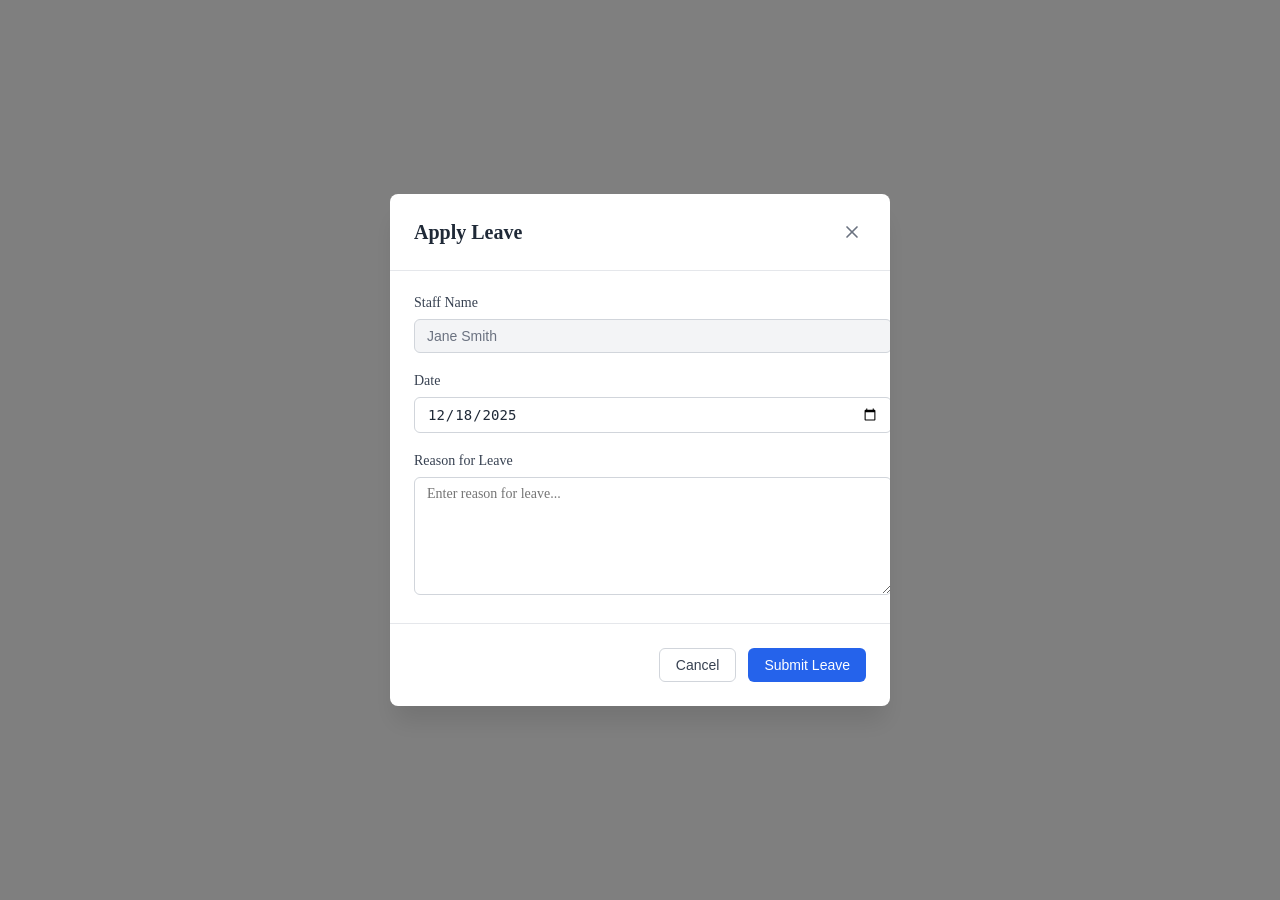
Test: ApplyLeaveModal Component › shows loading state during submission
This screenshot has width=1280, height=900.
Type "Vacation" into the text box with placeholder "Enter reason for leave...". click: (653, 536)
box: [414,477,892,595]
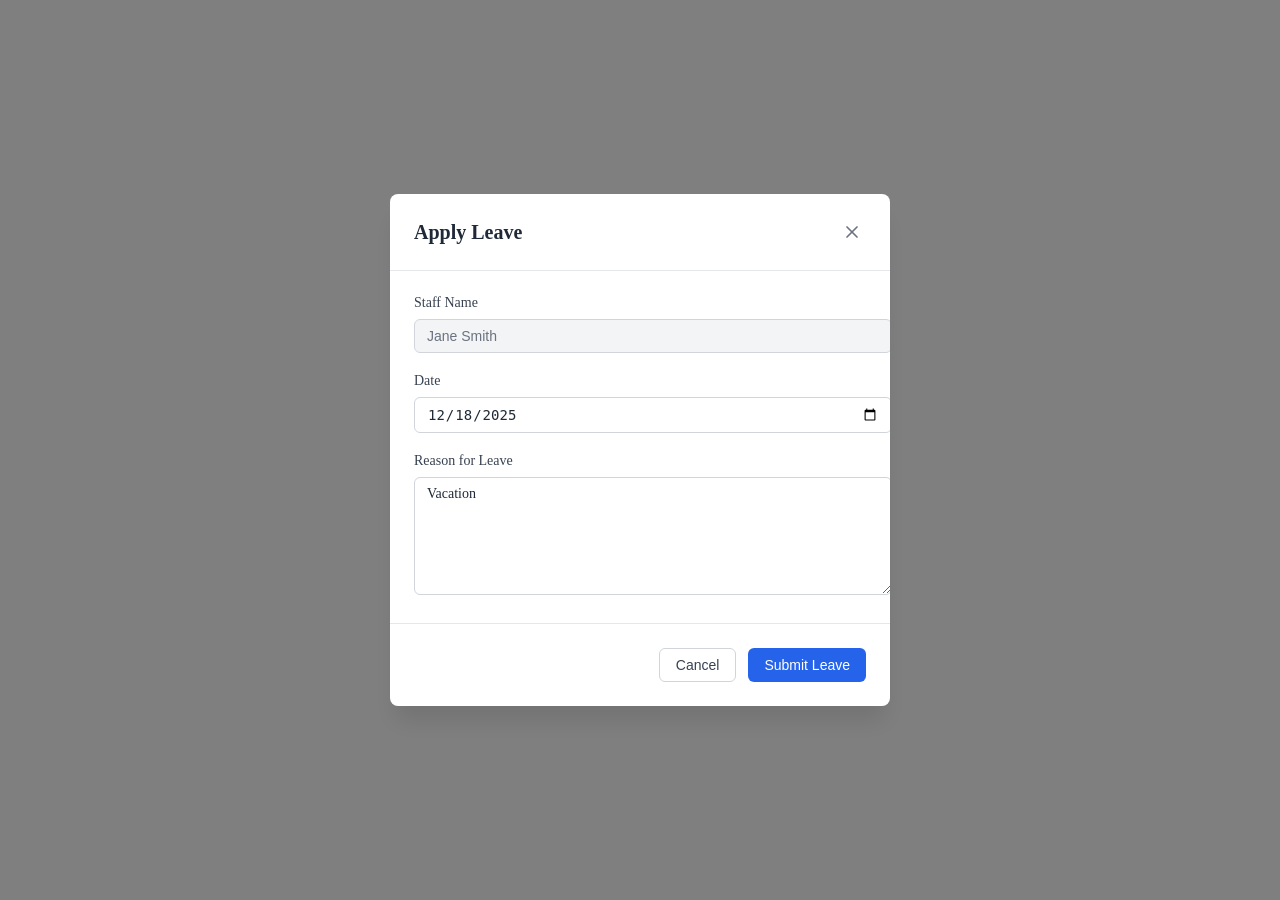
Click the button "Submit Leave". click: (807, 665)
box: [748,648,866,682]
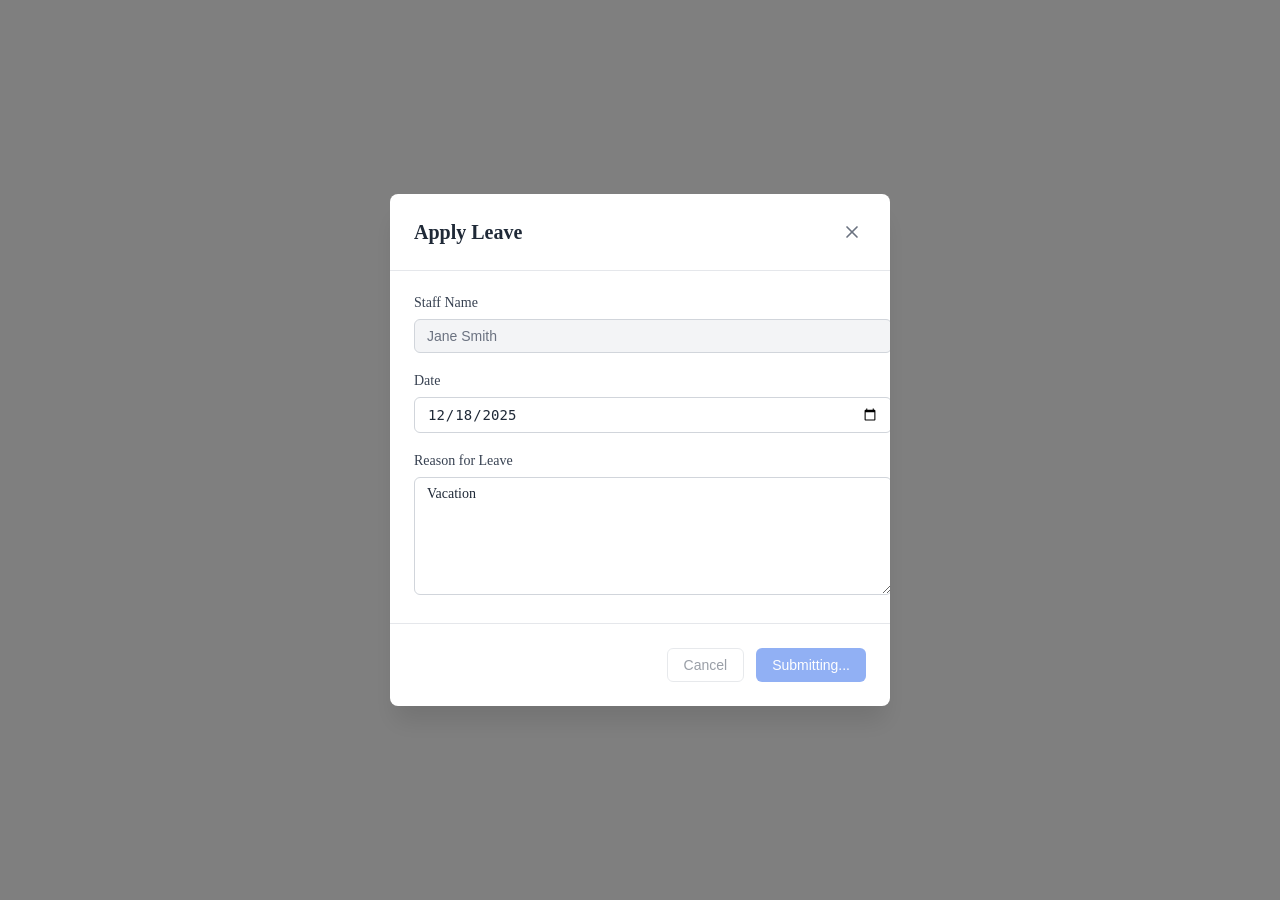
Now the button "Submitting..." is disabled, box [756,648,866,682]
